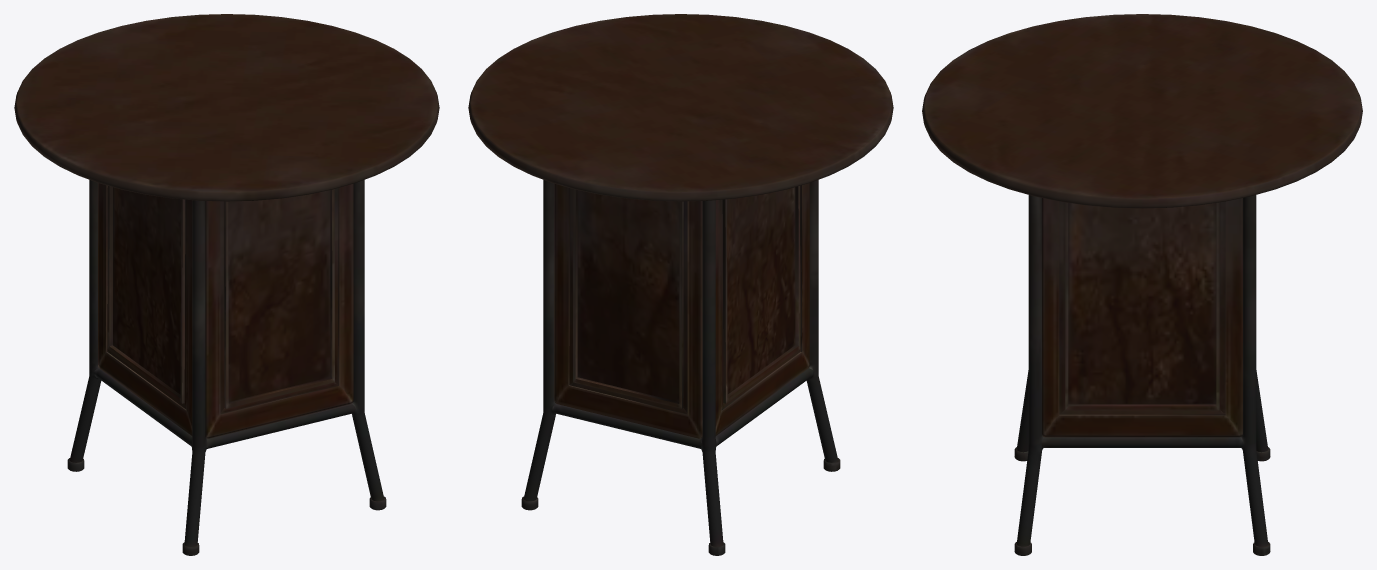
The model's file is ph-round-wooden-table-02.glb.
The picture shows the model from 3 angles, left to right: view 1: azimuth 30°, elevation 25°; view 2: azimuth 150°, elevation 25°; view 3: azimuth 270°, elevation 25°; orthographic projection. The views are drawn at different scales.
Visible parts, largest first — view 1: round_wooden_table_02; view 2: round_wooden_table_02; view 3: round_wooden_table_02.
Part boxes in pixels (x1=…): round_wooden_table_02: x1=14, y1=14, x2=439, y2=555; round_wooden_table_02: x1=468, y1=14, x2=893, y2=555; round_wooden_table_02: x1=922, y1=14, x2=1362, y2=555.
Bounding box in the file's own units: 1 × 1 × 1.
1 material, 1 textured.
